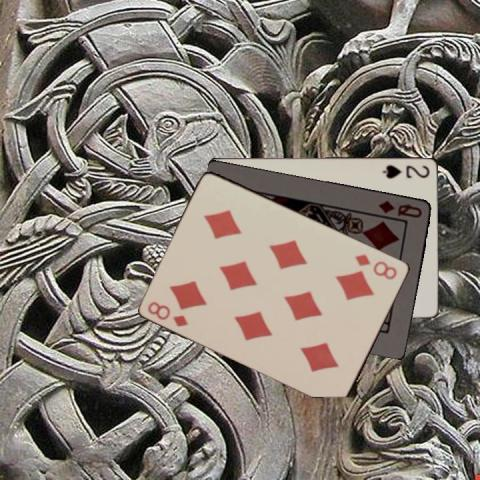2s: (380, 162, 432, 180)
8d: (353, 251, 399, 281), (145, 298, 190, 328)
Qd: (375, 197, 424, 219)
